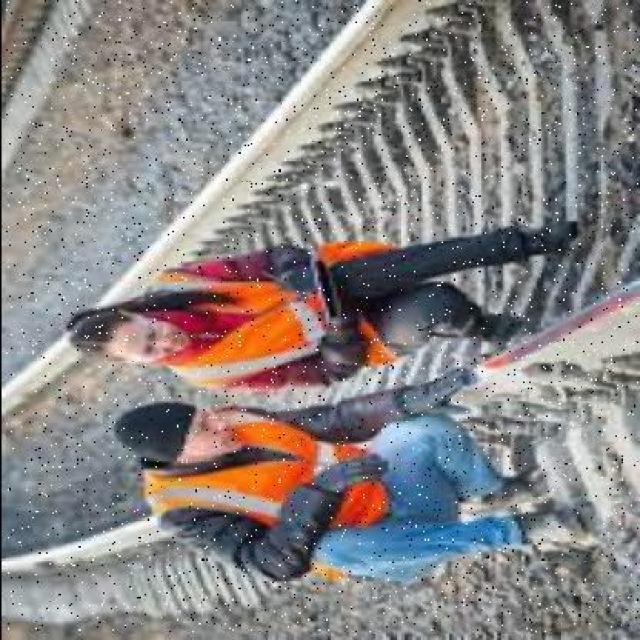danger: (101, 359, 598, 597), (54, 211, 600, 394)
rail: (5, 0, 637, 632)
